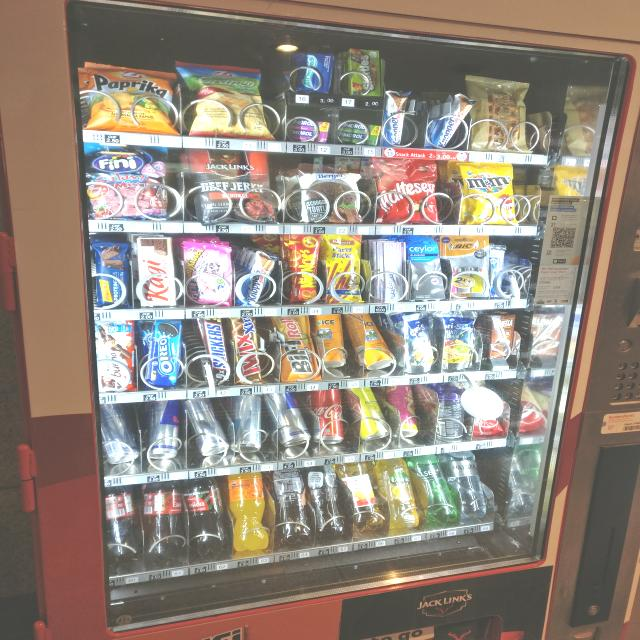airwaves_menthoneucalyptus_riegel_14_1_50173167: (296, 50, 334, 91)
berger_schoggitoertli____: (299, 173, 365, 225)
bifi_roll__50__4251097402635: (272, 314, 318, 380)
bueno___43__4008400320328: (90, 318, 137, 392)
c-swiss_dosenabisicetea__33__9120025930135: (348, 311, 396, 374), (312, 312, 347, 368)
caferoyal_classicmacchiato__33__7617014164487: (436, 388, 468, 442)
caprisun_multivitamin__20__4000177605004: (437, 310, 481, 372), (404, 311, 442, 374)
coke__dose_33__54491472: (312, 389, 346, 446)
coke__flasche_50__54491472: (142, 480, 190, 559), (104, 485, 142, 563)
coke_zero_flasche_50__5449000131836: (184, 479, 232, 559)
comella_schokodrink__33__7613100037253: (487, 312, 518, 368)
fanta___50__40822938: (226, 472, 272, 549)
fini_galaxymix_packung_100_1_8410525150364: (83, 144, 164, 220)
fini_jellykisses_packung_80_1_8410525116704: (182, 241, 234, 303)
fuse_lemon_dose_33__5449000235947: (354, 386, 392, 442)
jacklinks_beefjerkyorginal__25__4047751730219: (188, 146, 279, 225)
jlbrichard_gauffre__90__5410495002000: (470, 76, 530, 152)
kagi___50__7610046000259: (135, 235, 177, 305)
knoppers_riegel____4035800488808: (431, 90, 474, 150), (234, 250, 279, 302), (379, 87, 411, 144)
lorenz_nicnacs__40__4018077798818: (284, 232, 322, 304)
malburner_partysticks__40__7610200279682: (320, 234, 366, 304)
maltesers___100__5000159023061: (372, 154, 440, 224)
mnms_gelb__45__40111445: (456, 159, 519, 225)
oreo___66__84100733: (145, 318, 186, 388)
powerbar_proteinplusschoko__55__4029679520028: (87, 240, 136, 309)
ramseier_schorle__50__7610057012456: (336, 460, 385, 533)
redbull___33__90162909: (186, 396, 234, 454), (98, 405, 141, 465), (266, 394, 312, 446), (146, 397, 182, 458)
redbull_light__33__90162800: (229, 393, 267, 453)
skittles_sour_riegel_51_1_: (348, 46, 382, 100)
snickers___50__5000159461122: (195, 316, 233, 384)
stimorol_spearmint_riegel_14_1_: (336, 120, 377, 144)
stimorol_wildcherry_riegel_14_1_57060330: (289, 117, 332, 143)
tiki_himbeerbrause_dose_33_1_: (387, 385, 420, 440)
twix___50__5000159459228: (226, 317, 265, 383)
valser_classic__50__76404160: (408, 454, 458, 529)
valser_still__50__7610335002575: (440, 449, 484, 518)
volvic_pinapple__50__305764335648: (372, 457, 418, 528)
zweifel_graneochilli__100__7610095184009: (175, 58, 268, 139)
zweifel_paprika__90__7610095013002: (81, 59, 183, 136)
